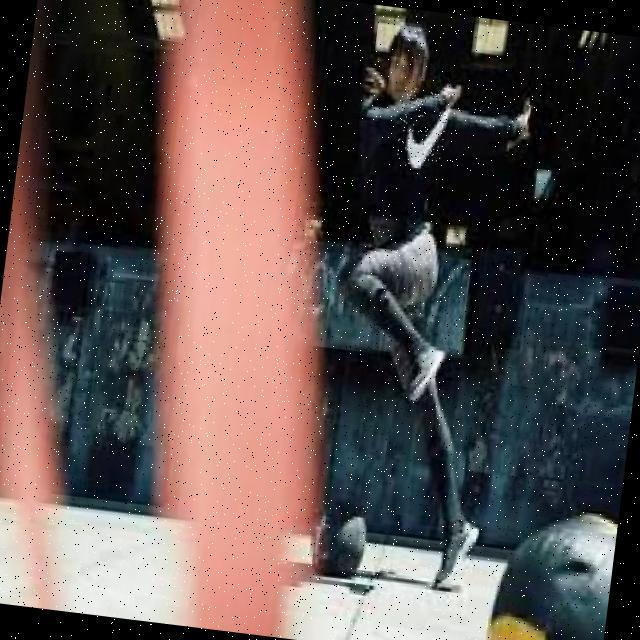Nike: (394, 85, 449, 172)
